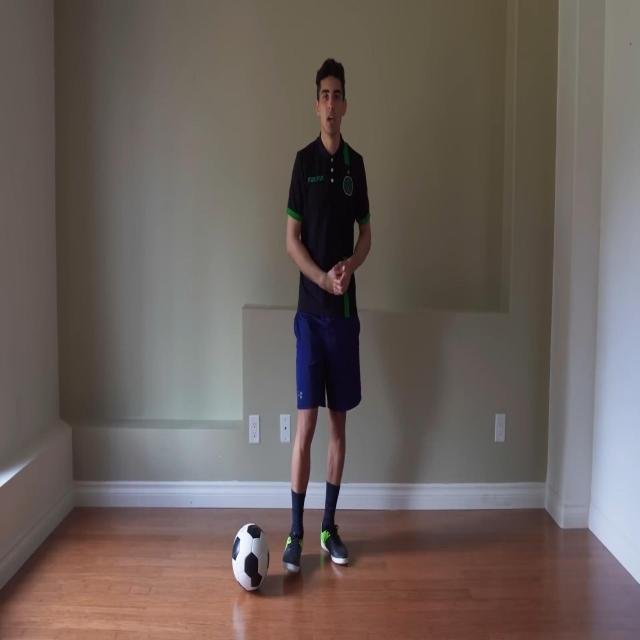Soccer Ball: (232, 522, 270, 592)
